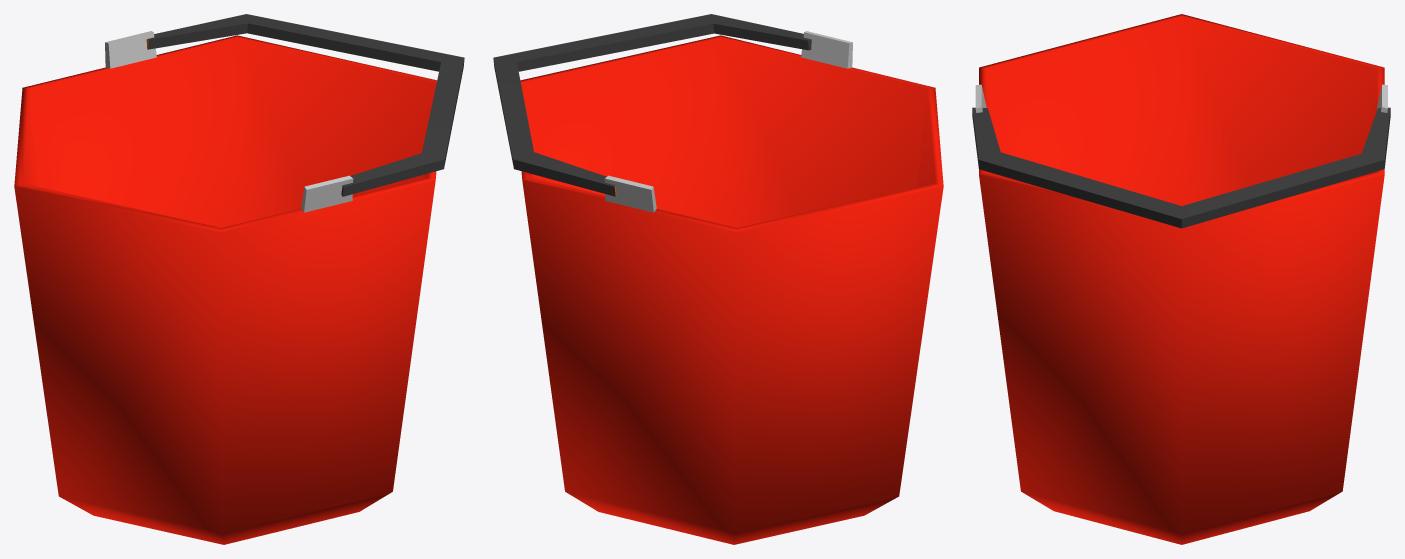
Rendered from Bucket_C.FBX.
The picture shows the model from 3 angles, left to right: view 1: azimuth 30°, elevation 25°; view 2: azimuth 150°, elevation 25°; view 3: azimuth 270°, elevation 25°; orthographic projection. The views are drawn at different scales.
Visible parts, largest first — view 1: Bucket; view 2: Bucket; view 3: Bucket.
Boxes of the visible parts, x1,y1,x2,y2 form: Bucket: (14, 14, 464, 544); Bucket: (493, 14, 943, 544); Bucket: (972, 14, 1390, 544).
Size of the model in its own units: 81.17 by 64.26 by 63.84.
